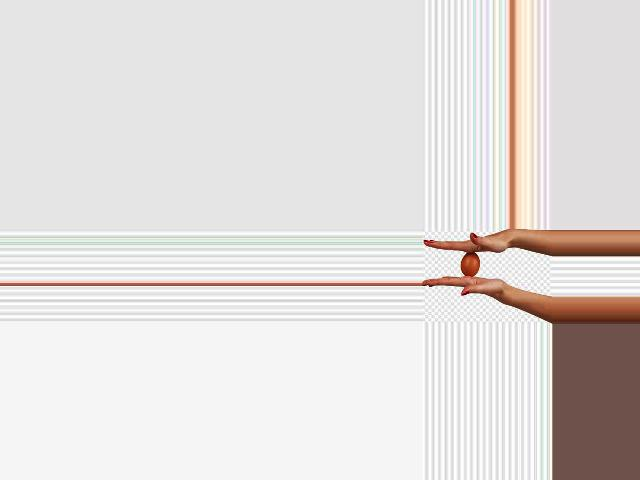egg: (461, 253, 480, 277)
